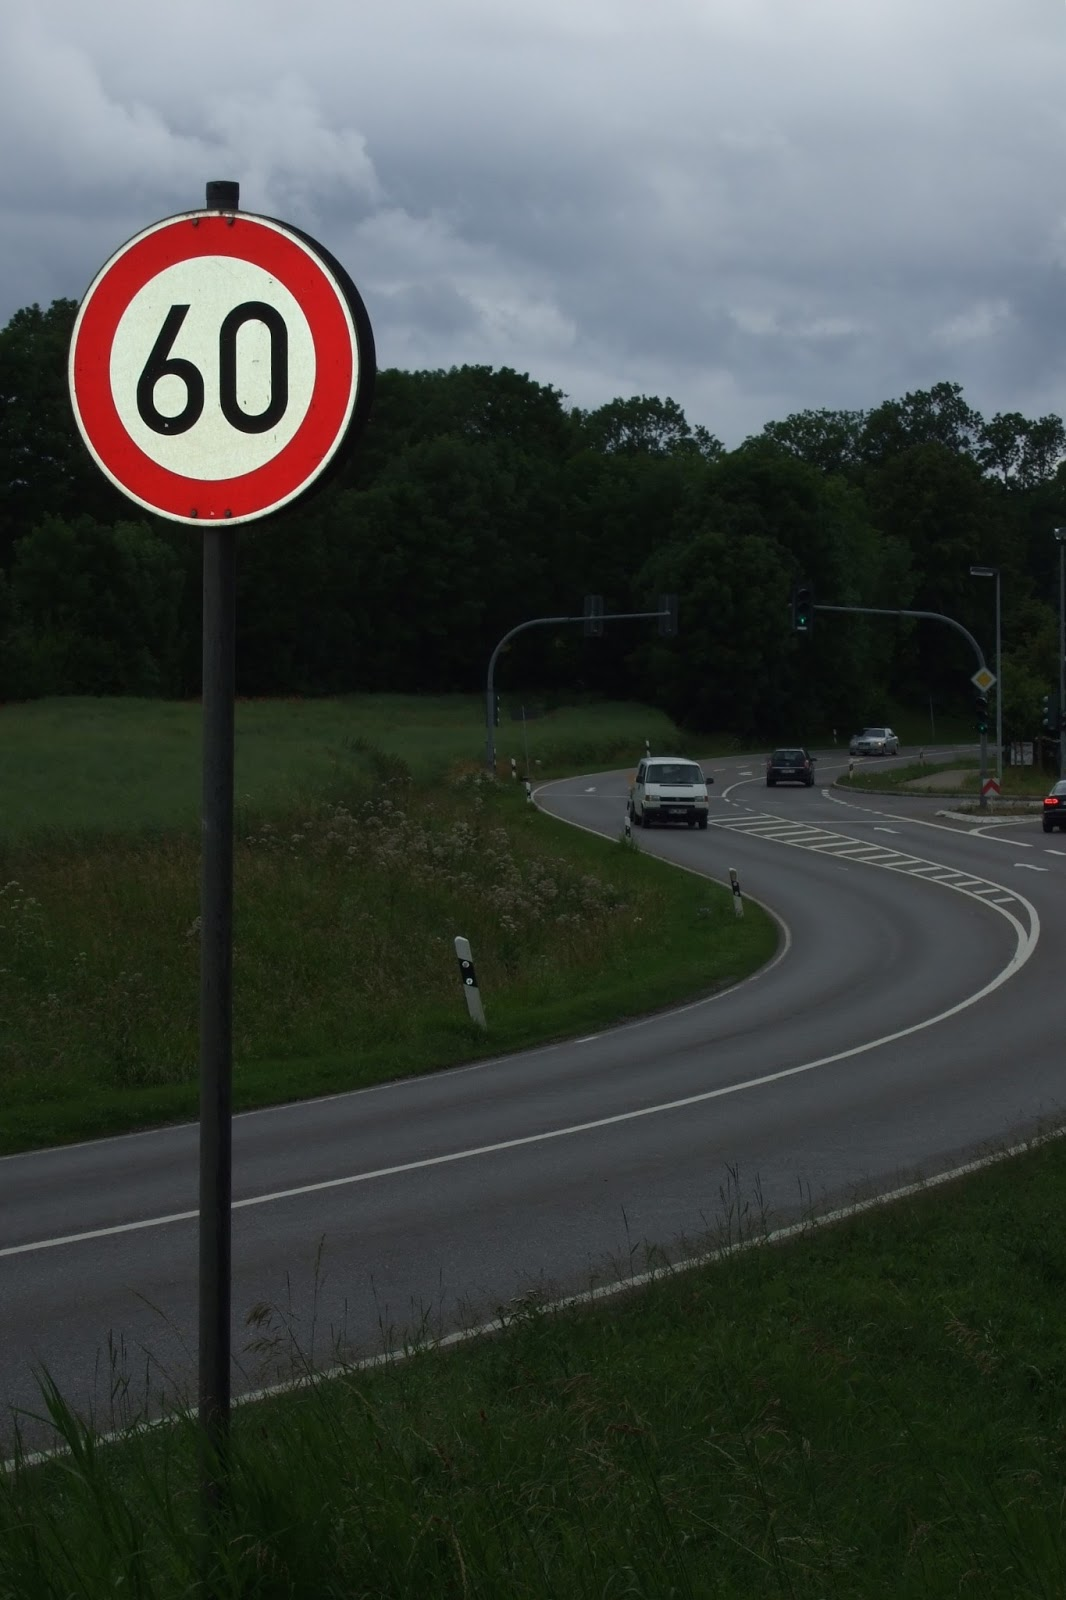Speed_limit_60km: (68, 211, 370, 526)
